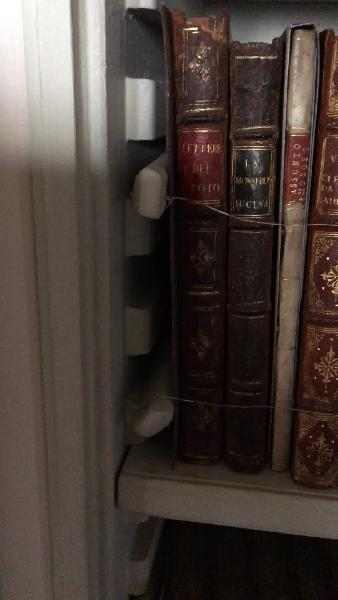Aa6-1: (161, 8, 229, 474)
Aa6-2: (223, 29, 281, 479)
Aa6-3: (265, 13, 327, 477)
